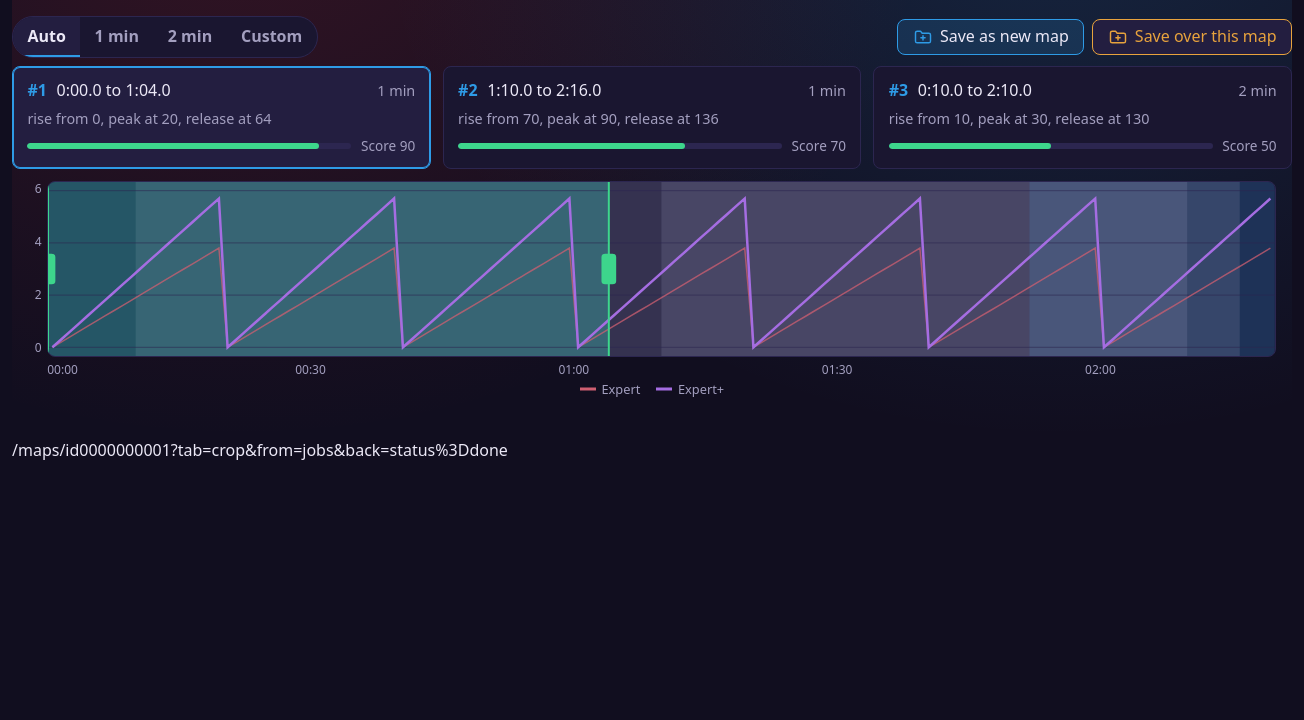
Test: after a crop finishes › save as new map opens the new map on Status, keeping the origin
Click the button "Save as new map". click: x=991, y=37
box: x1=897 y1=19 x2=1084 y2=55
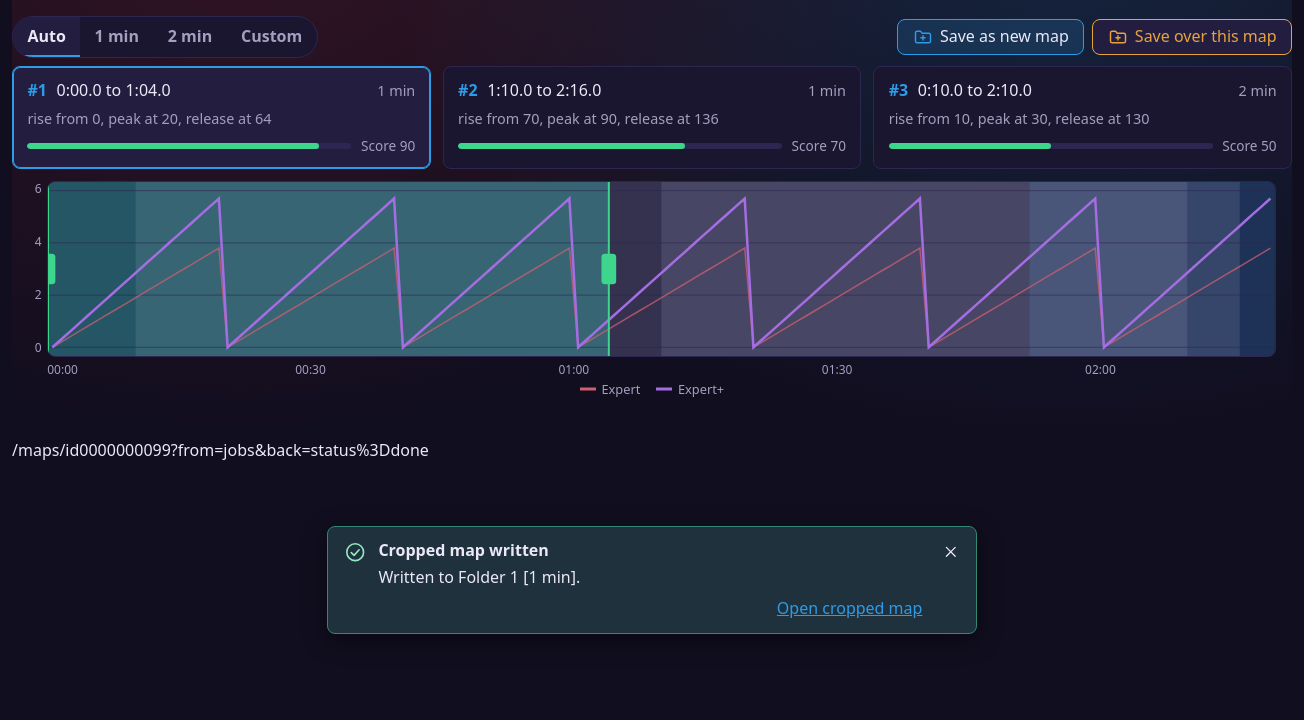
Expected: the text with test id "where" reads "/maps/id0000000099?from=jobs&back=status%3Ddone", x1=12 y1=439 x2=429 y2=461
